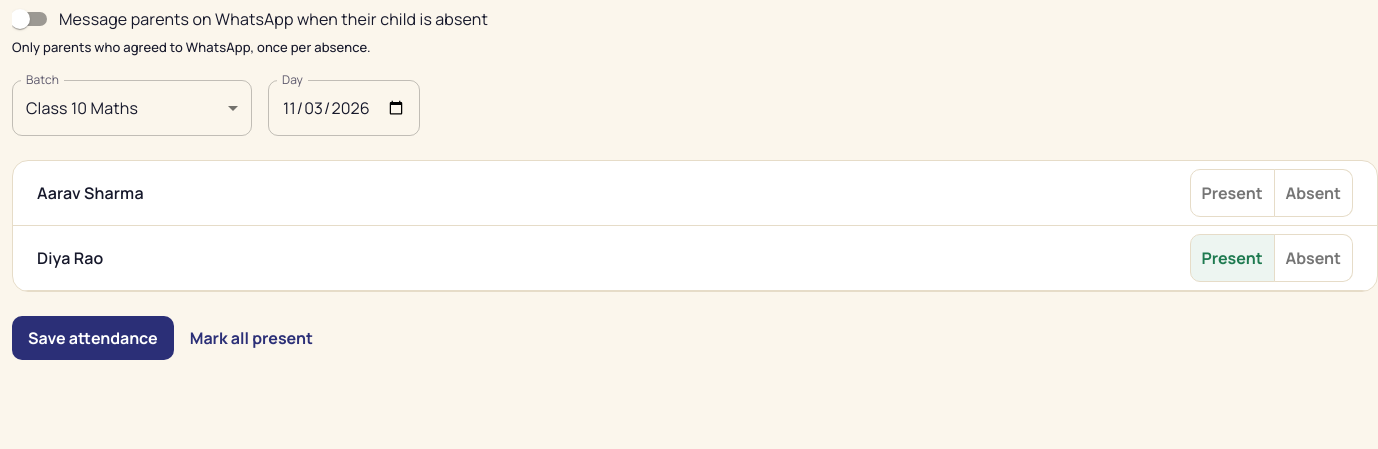
Test case: Attendance › says when a day can't be saved
Expected: the element named "Aarav Sharma" is shown, [1190, 169, 1353, 217]
Click the button "Save attendance".
click(93, 338)  # box [12, 316, 174, 360]
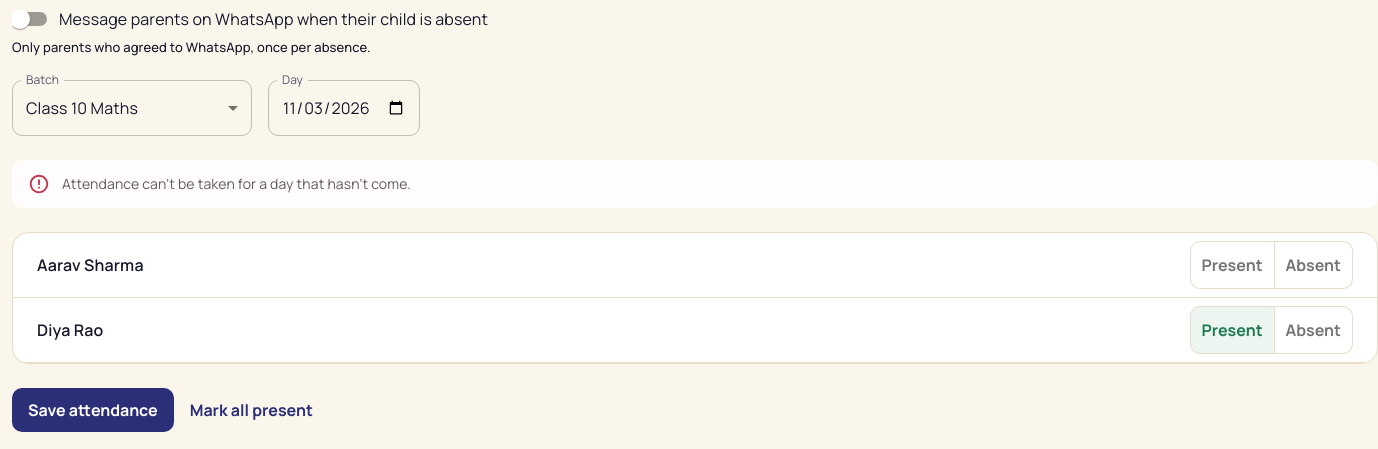
Expected: the message reads "Attendance can’t be taken for a day that hasn’t come.", [62, 174, 411, 193]
